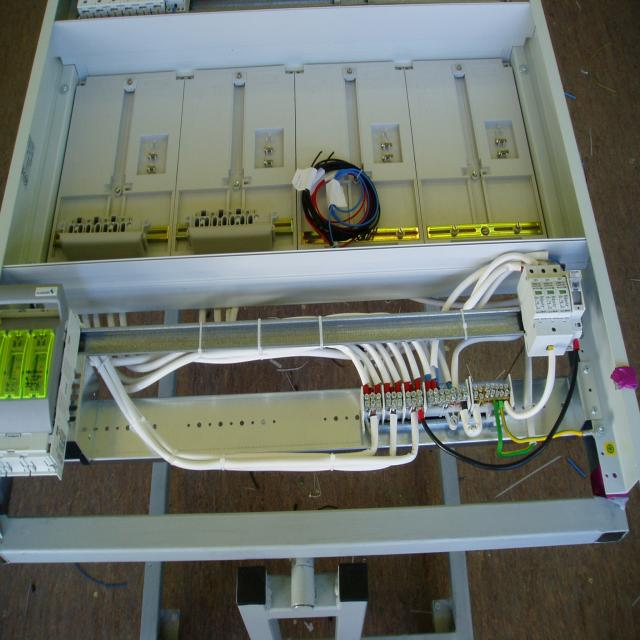Schaltkasten: (7, 5, 624, 485)
